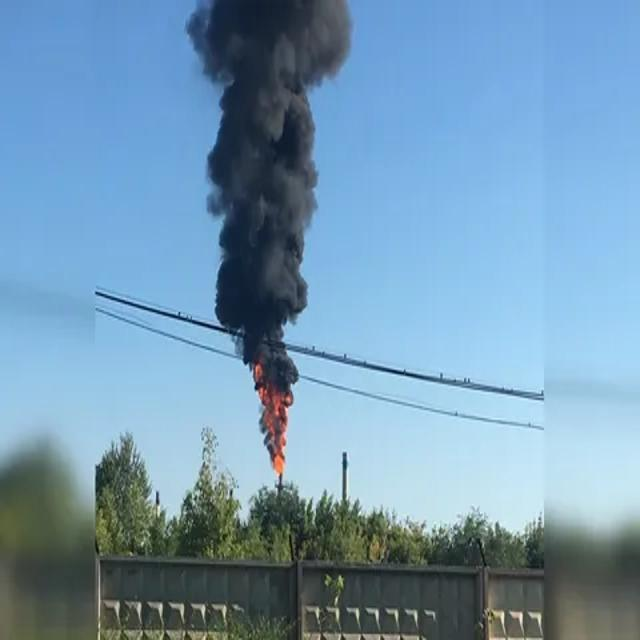Smoke: (184, 2, 351, 474)
